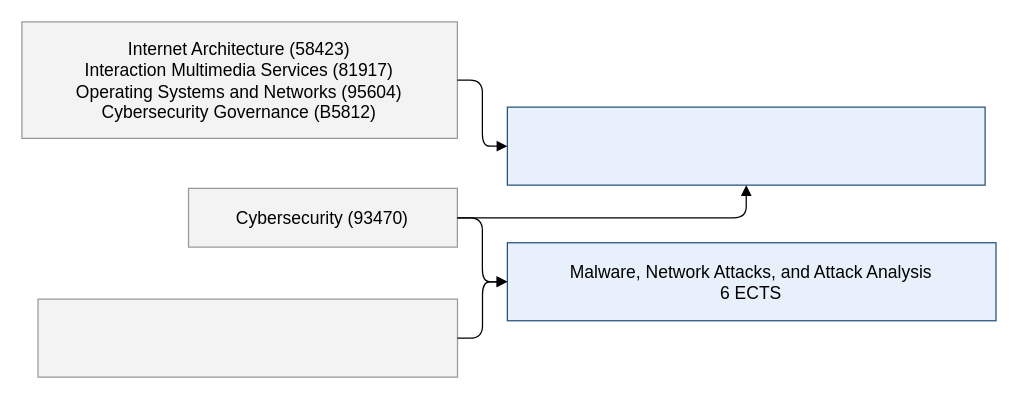
The diagram is 1019 pixels wide and 400 high, and some of its shapes have lost their labels. Each missing label, with the centre of its shape:
"Cybersecurity Contexts and Personal Security 3 ECTS" belongs at [745,145].
"FONDAMENTI DI CYBERSECURITY (93466) Basic IT Skills (B9254)" belongs at [247,337].
